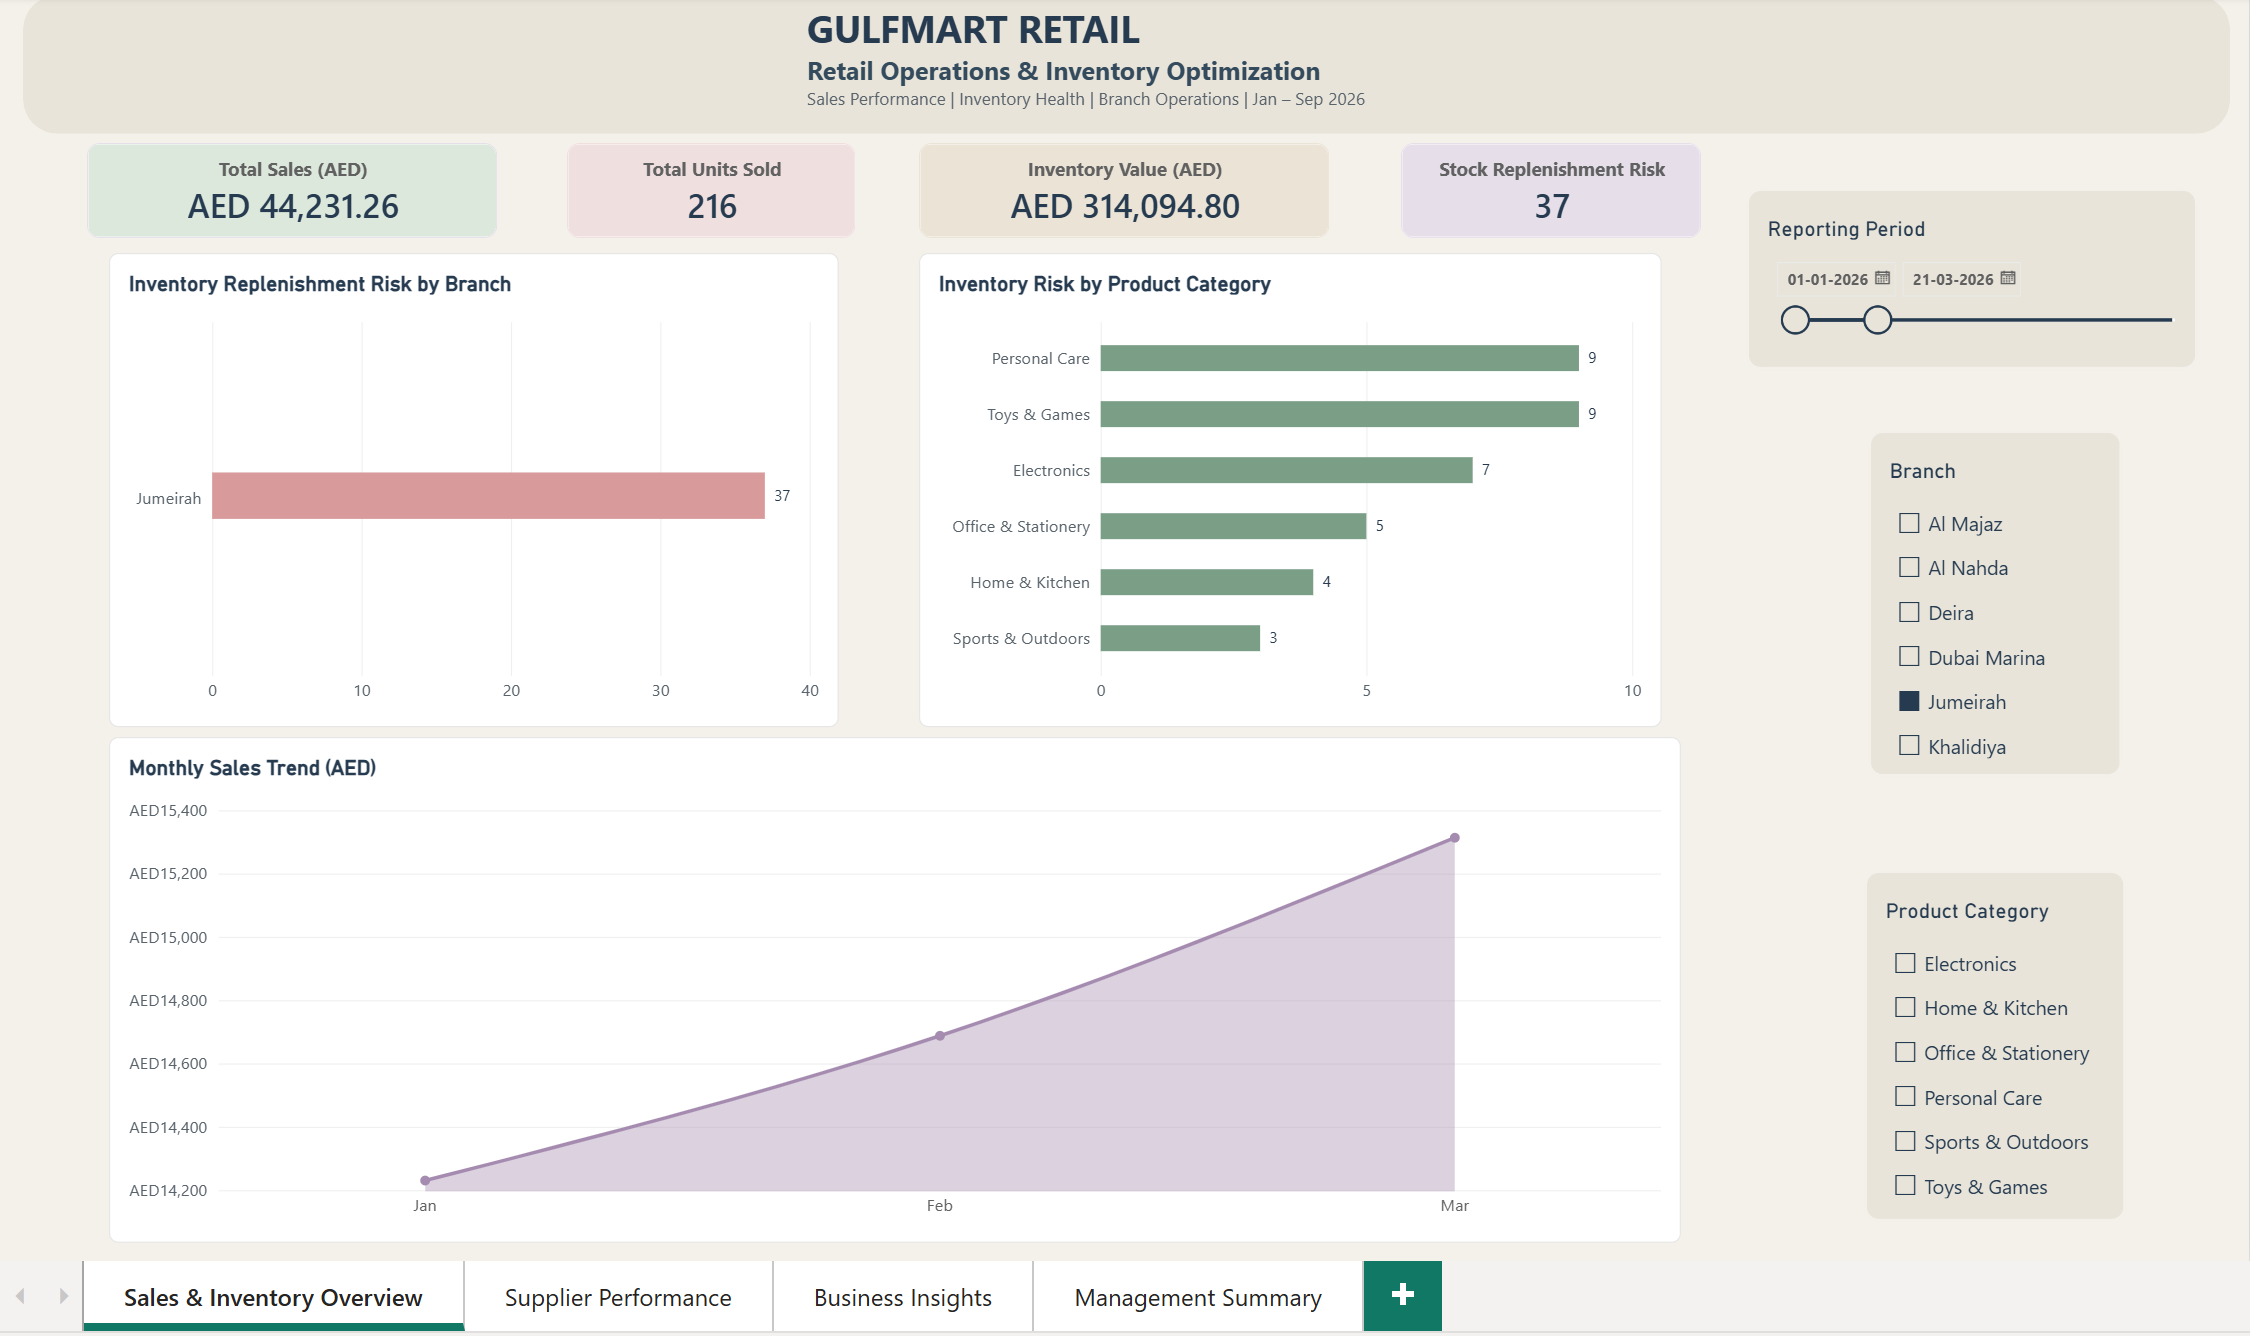

Layout of this report page (visuals, bound fields, positions):
{"tool":"powerbi","page":{"name":"Sales & Inventory Overview","canvas":[1920,1080],"ordinal":0},"visuals":[{"type":"cardVisual","fields":{"Data":["Sales.Total Sales (AED) for chart"]},"box":[74.8,126.4,350,81.2],"z":0},{"type":"cardVisual","fields":{"Data":["Inventory.Inventory Value (AED) for card"]},"box":[785.5,126.3,350,81.2],"z":1000},{"type":"cardVisual","fields":{"Data":["Sales.Total Units Sold"]},"box":[484.2,126.3,246.9,81.2],"z":2000},{"type":"lineChart","title":"Monthly Sales Trend (AED)","fields":{"Category":["DateTable.Month"],"Y":["Sales.Total Sales AED"]},"box":[93.4,632.9,1340.8,431.6],"z":3000},{"type":"cardVisual","fields":{"Data":["Inventory.Products Below Reorder Level"]},"box":[1196.1,126.3,256.2,81.2],"z":4000},{"type":"clusteredBarChart","title":"Inventory Replenishment Risk by Branch","fields":{"Category":["Branches.BranchName"],"Y":["Inventory.Products Below Reorder Level"]},"box":[93.5,219.6,622.7,404.5],"z":5000},{"type":"clusteredBarChart","title":"Inventory Risk by Product Category","fields":{"Category":["Products.Category"],"Y":["Inventory.Products Below Reorder Level"]},"box":[784.8,220.1,633.3,404.5],"z":6000},{"type":"slicer","title":"Reporting Period","fields":{"Values":["DateTable.Date"]},"box":[1492.9,167.2,380.5,150.1],"z":7000},{"type":"slicer","title":"\tBranch","fields":{"Values":["Branches.BranchName"]},"box":[1597,373.6,211.9,291],"z":8000},{"type":"slicer","title":"\tProduct Category","fields":{"Values":["Products.Category"]},"box":[1593.6,749,218.7,294.8],"z":9000},{"type":"shape","box":[19.7,0,1882.9,118.4],"z":10000},{"type":"textbox","box":[689.1,6.5,540,105.9],"z":11000}]}

Visuals, with their boxes on the page's 1920x1080 design canvas (x1, y1, x2, y2). These are canvas units, not pixel positions in the 2250x1336 screenshot, which may show the page scaled, cropped or inside an application window:
cardVisual - Sales.Total Sales (AED) for chart: (left=75, top=126, right=425, bottom=208)
cardVisual - Inventory.Inventory Value (AED) for card: (left=786, top=126, right=1136, bottom=208)
cardVisual - Sales.Total Units Sold: (left=484, top=126, right=731, bottom=208)
"Monthly Sales Trend (AED)" lineChart: (left=93, top=633, right=1434, bottom=1064)
cardVisual - Inventory.Products Below Reorder Level: (left=1196, top=126, right=1452, bottom=208)
"Inventory Replenishment Risk by Branch" clusteredBarChart: (left=94, top=220, right=716, bottom=624)
"Inventory Risk by Product Category" clusteredBarChart: (left=785, top=220, right=1418, bottom=625)
"Reporting Period" slicer: (left=1493, top=167, right=1873, bottom=317)
"	Branch" slicer: (left=1597, top=374, right=1809, bottom=665)
"	Product Category" slicer: (left=1594, top=749, right=1812, bottom=1044)
shape: (left=20, top=0, right=1903, bottom=118)
textbox: (left=689, top=6, right=1229, bottom=112)
